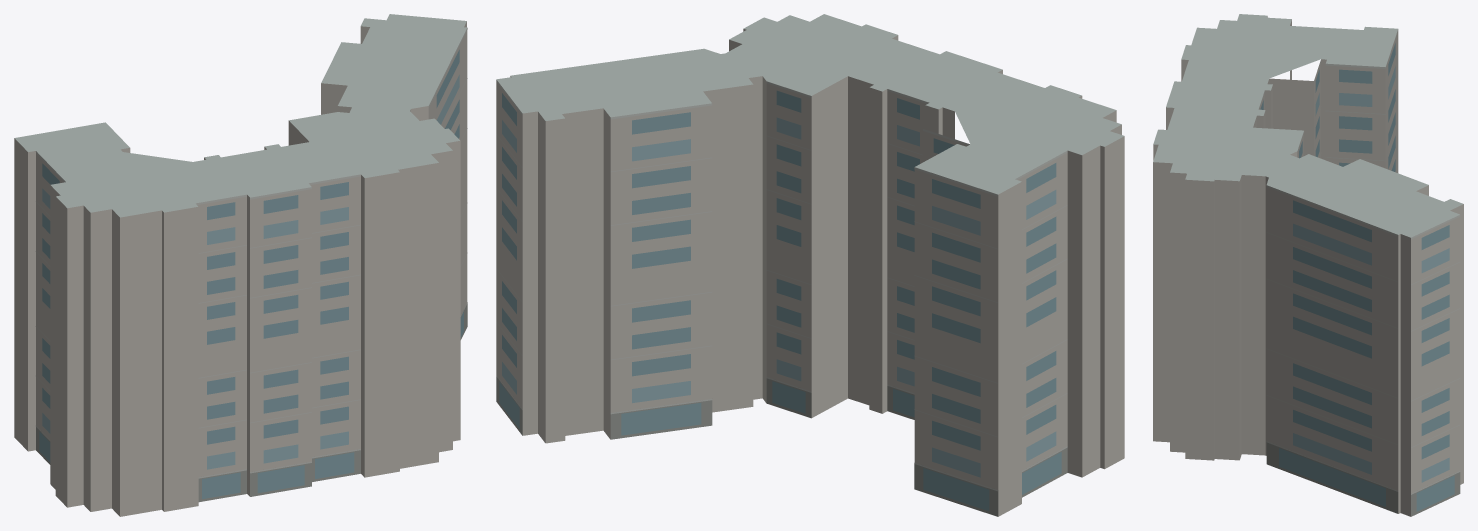
File: survey-upis-32972747.glb
The picture shows the model from 3 angles, left to right: view 1: azimuth 30°, elevation 25°; view 2: azimuth 150°, elevation 25°; view 3: azimuth 270°, elevation 25°; orthographic projection. The views are drawn at different scales.
Visible parts, largest first — view 1: survey-upis-32972747.tmp; view 2: survey-upis-32972747.tmp; view 3: survey-upis-32972747.tmp.
Boxes of the visible parts, left/top/right/bottom form: survey-upis-32972747.tmp: left=14, top=14, right=467, bottom=516; survey-upis-32972747.tmp: left=496, top=14, right=1124, bottom=516; survey-upis-32972747.tmp: left=1153, top=14, right=1463, bottom=516.
Size of the model in its own units: 62.92 by 36.6 by 36.94.
